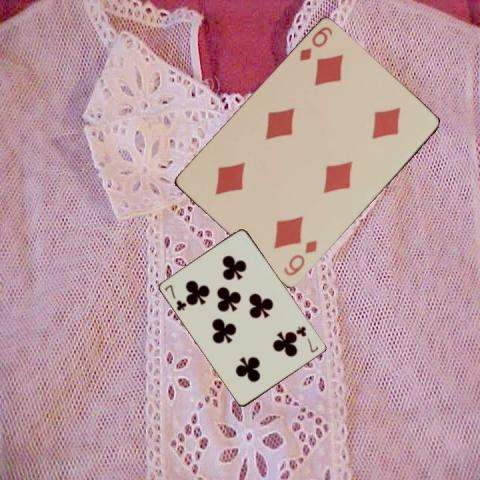6d: (280, 237, 319, 278), (296, 24, 334, 63)
7c: (294, 323, 320, 354), (162, 281, 188, 312)
